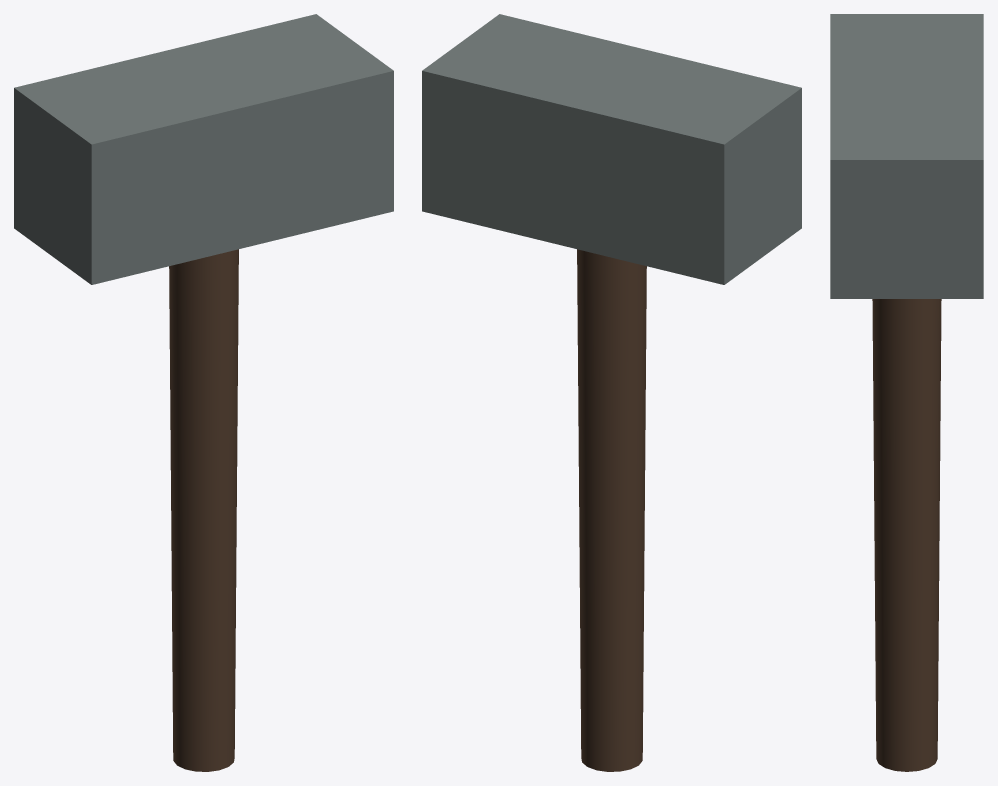
The model's file is carpenter_hammer.glb.
The picture shows the model from 3 angles, left to right: view 1: azimuth 30°, elevation 25°; view 2: azimuth 150°, elevation 25°; view 3: azimuth 270°, elevation 25°; orthographic projection.
Parts seen in each view (by area): view 1: carpenter_hammer; view 2: carpenter_hammer; view 3: carpenter_hammer.
Part boxes in pixels (left/top/right/bottom): carpenter_hammer: left=14, top=14, right=393, bottom=771; carpenter_hammer: left=422, top=14, right=801, bottom=771; carpenter_hammer: left=830, top=14, right=983, bottom=771.
Bounding box in the file's own units: 0.27 × 0.58 × 0.12.
